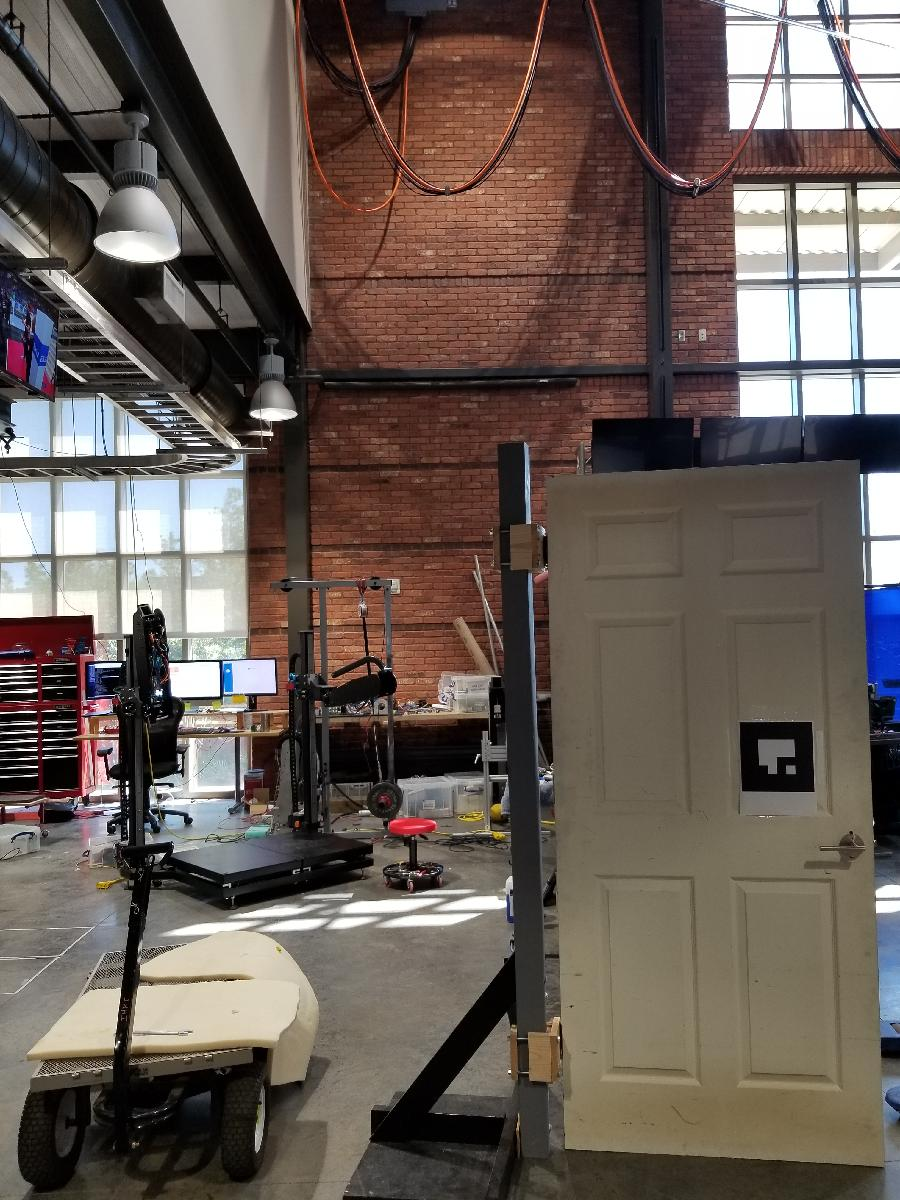door: (542, 457, 890, 1172)
doorHandle: (817, 827, 869, 876)
